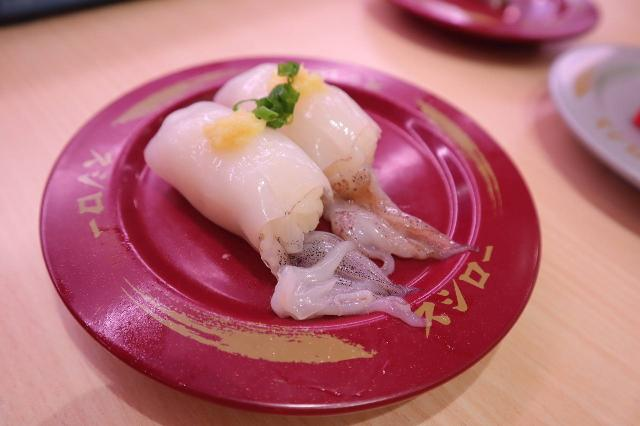janred: (47, 37, 521, 392), (373, 0, 595, 49)
janwhite: (549, 30, 640, 182)
